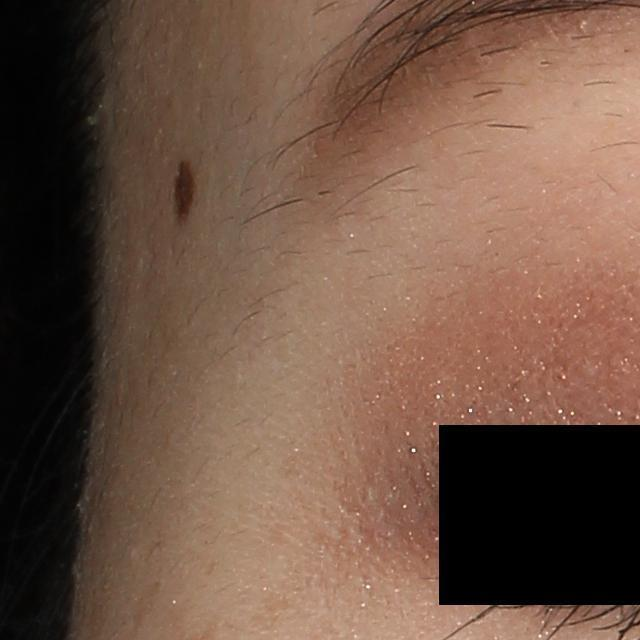nevus: (170, 158, 199, 226)
